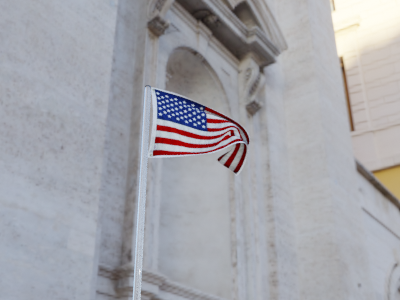America flag: (150, 85, 251, 175)
